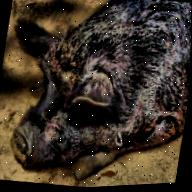boar: (10, 0, 192, 191)
